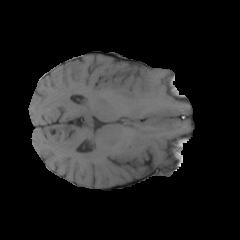glioma: (114, 67, 151, 100)
